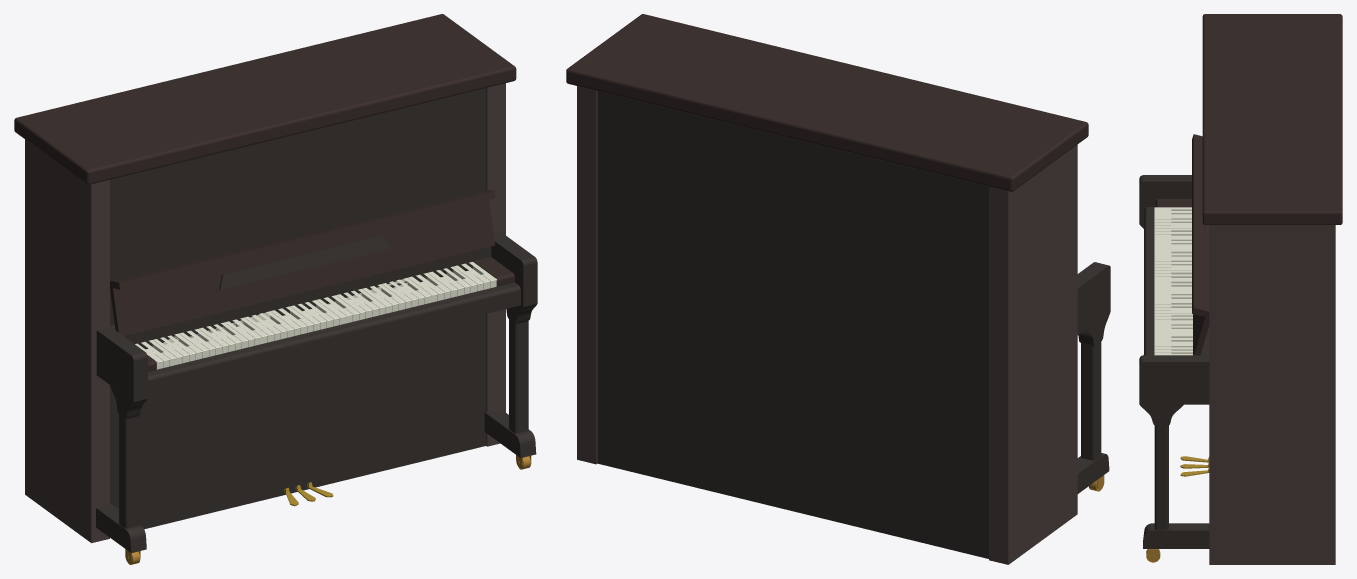
The model's file is Klavier.fbx.
The picture shows the model from 3 angles, left to right: view 1: azimuth 30°, elevation 25°; view 2: azimuth 150°, elevation 25°; view 3: azimuth 270°, elevation 25°; orthographic projection. The views are drawn at different scales.
Visible parts, largest first — view 1: Klavier; view 2: Klavier; view 3: Klavier.
Boxes of the visible parts, <box> form: Klavier: <box>14,14,537,564</box>; Klavier: <box>566,14,1110,564</box>; Klavier: <box>1139,14,1342,564</box>.
Bounding box in the file's own units: 194 × 163 × 83.8.
